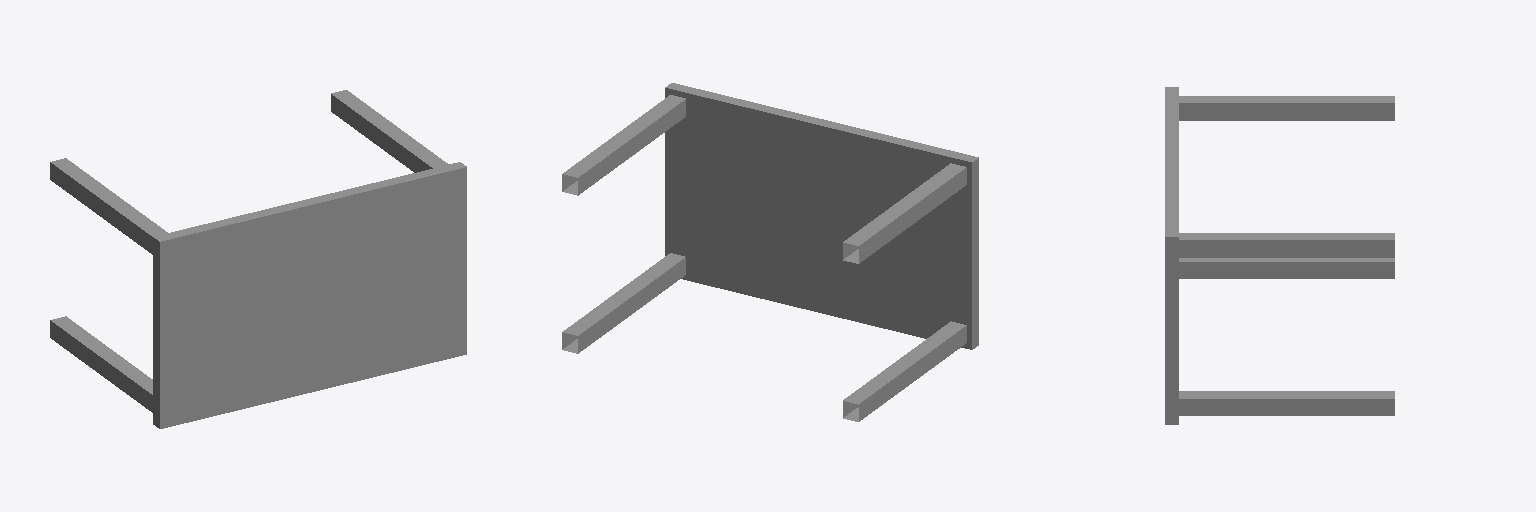
File: Table.obj
3 renders of one model, left to right at view 1: azimuth 30°, elevation 25°; view 2: azimuth 150°, elevation 25°; view 3: azimuth 270°, elevation 25°, orthographic.
Parts seen in each view (by area): view 1: Cube.029_Cube.036; view 2: Cube.029_Cube.036; view 3: Cube.029_Cube.036.
Part boxes in pixels (x1,y1,x2,y2): Cube.029_Cube.036: (50, 90, 466, 428); Cube.029_Cube.036: (562, 83, 978, 421); Cube.029_Cube.036: (1165, 87, 1394, 424).
Size of the model in its own units: 1.2 by 0.7 by 0.78.